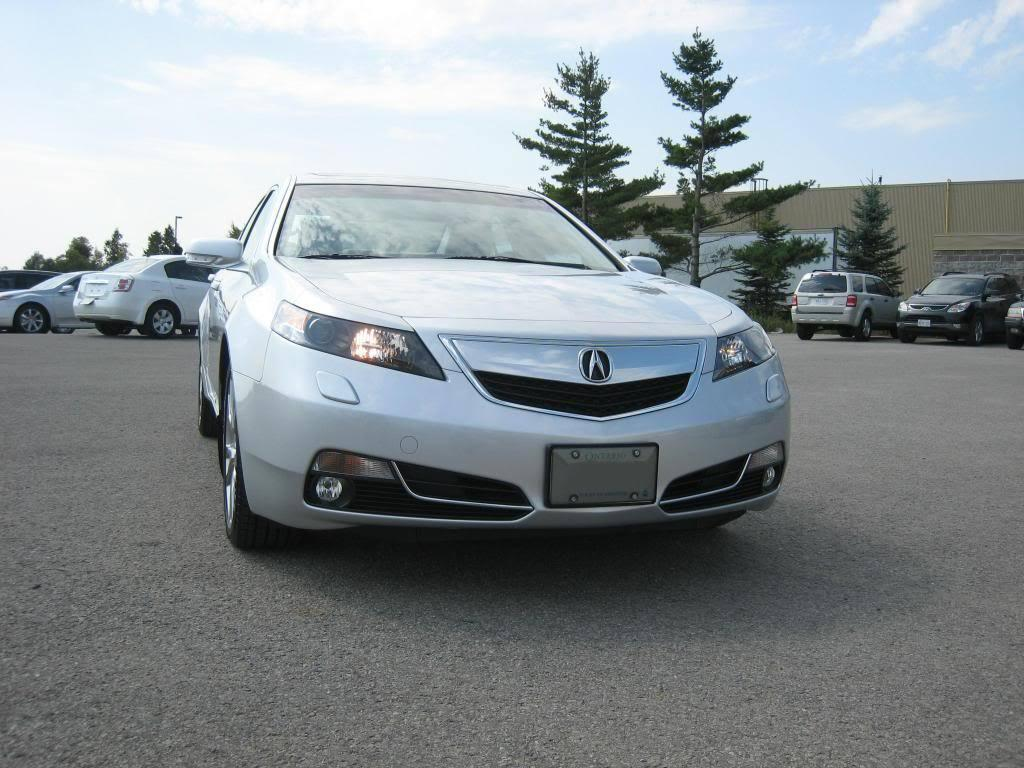Car: (179, 124, 814, 614), (67, 229, 247, 354), (872, 251, 1024, 389), (1, 246, 102, 361)
